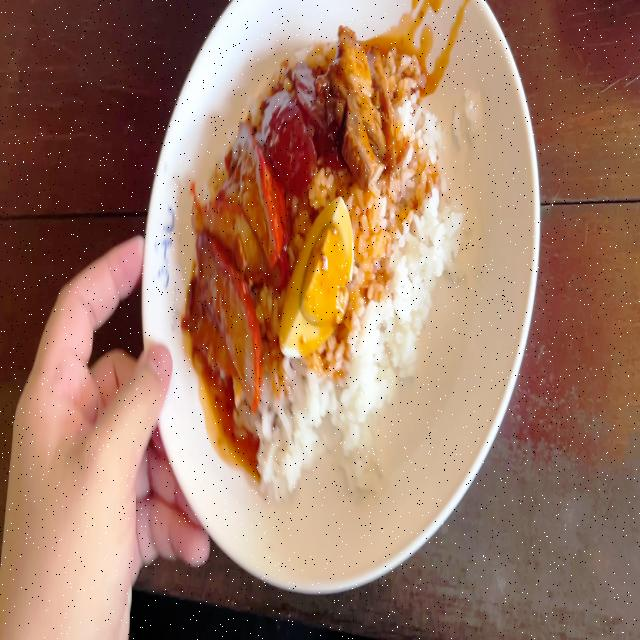boiled_egg: (281, 202, 351, 362)
chainese_sausage: (268, 74, 334, 177)
crispy_pork: (340, 32, 403, 175)
red_pork: (195, 130, 275, 398)
red_pork_and_crispy_pork: (197, 52, 443, 474)
rice: (355, 187, 438, 393)
